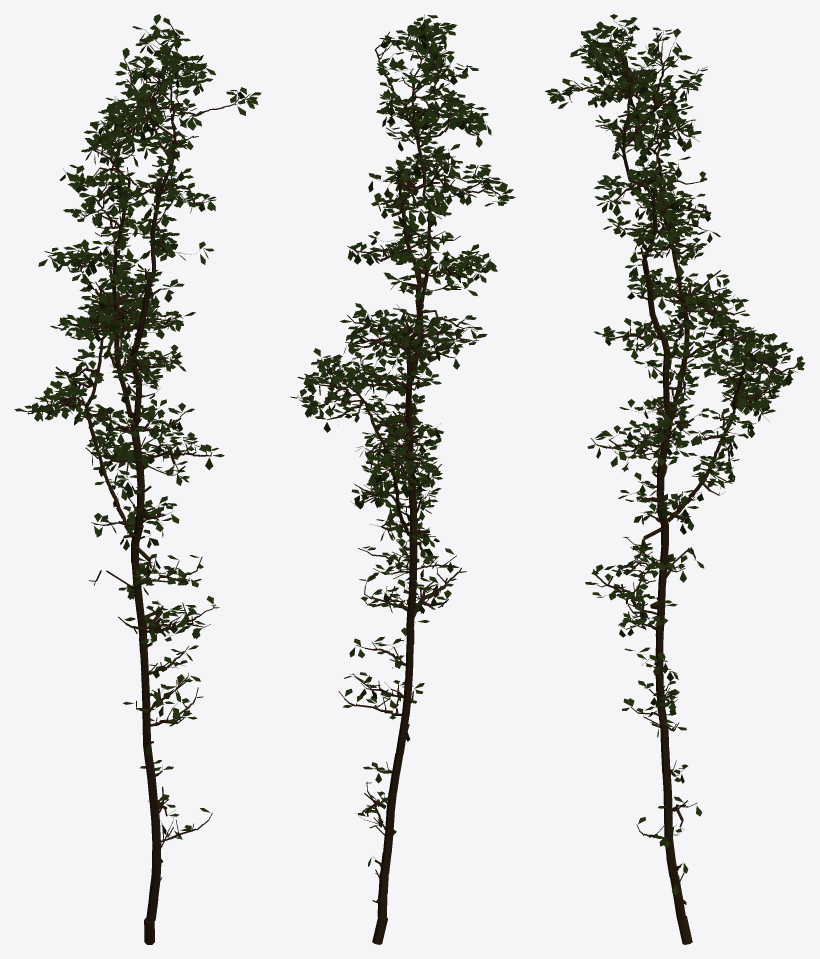
File: tree_281.obj
3 views of the same model, side by side, from view 1: azimuth 30°, elevation 25°; view 2: azimuth 150°, elevation 25°; view 3: azimuth 270°, elevation 25° (orthographic). The views are drawn at different scales.
Visible parts, largest first — view 1: Leaves, TrunkAndBranches; view 2: Leaves, TrunkAndBranches; view 3: Leaves, TrunkAndBranches.
Boxes of the visible parts, x1,y1,x2,y2 form: Leaves: (14, 14, 261, 862); TrunkAndBranches: (27, 20, 249, 944); Leaves: (290, 15, 515, 866); TrunkAndBranches: (298, 14, 507, 944); Leaves: (545, 14, 804, 895); TrunkAndBranches: (558, 20, 797, 944).
Bounding box in the file's own units: 4.09 × 22.15 × 5.71.
